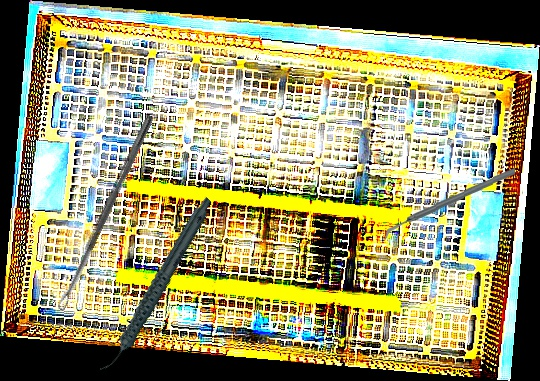Chopper: (382, 167, 518, 241)
Handpiece: (68, 195, 244, 376)
Surgical Spoon: (55, 113, 155, 312)
